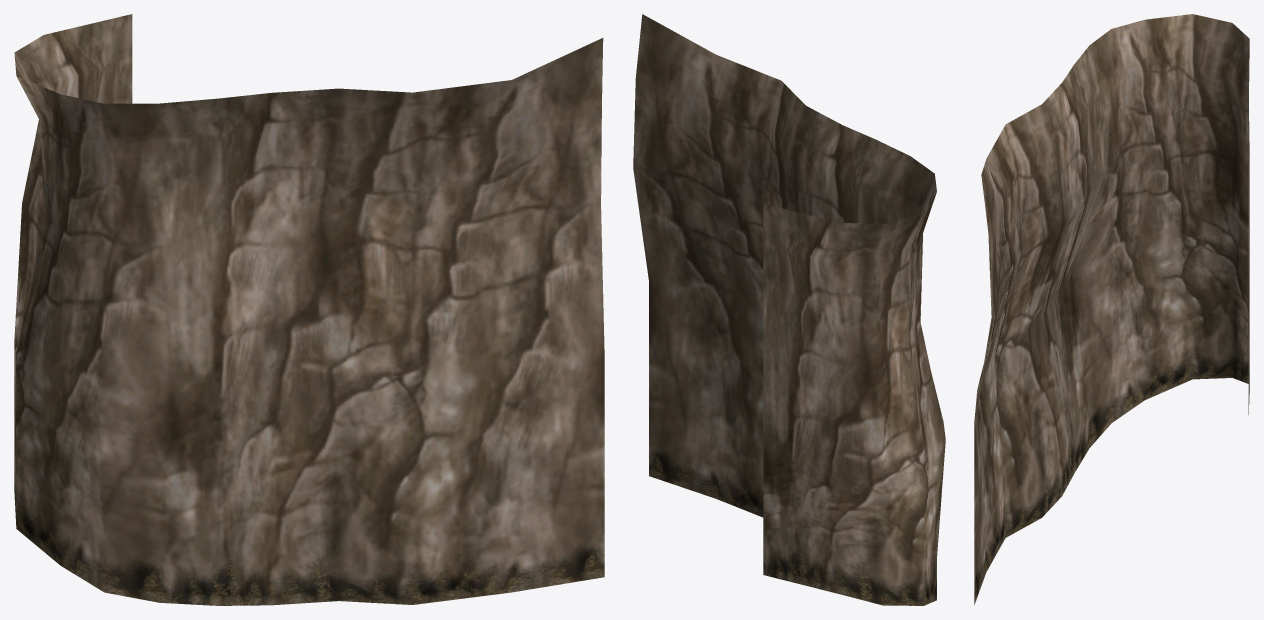
The model's file is OVERHILL_A_01_OBJECT03.fbx.
3 views of the same model, side by side, from view 1: azimuth 30°, elevation 25°; view 2: azimuth 150°, elevation 25°; view 3: azimuth 270°, elevation 25° (orthographic). The views are drawn at different scales.
Parts seen in each view (by area): view 1: OVERHILL_A_01_OBJECT03; view 2: OVERHILL_A_01_OBJECT03; view 3: OVERHILL_A_01_OBJECT03.
Boxes of the visible parts, x1,y1,x2,y2 form: OVERHILL_A_01_OBJECT03: (14,14,604,605); OVERHILL_A_01_OBJECT03: (633,14,945,605); OVERHILL_A_01_OBJECT03: (974,14,1249,604).
Bounding box in the file's own units: 59308 × 65972 × 38122.
2 materials, 2 textured.
